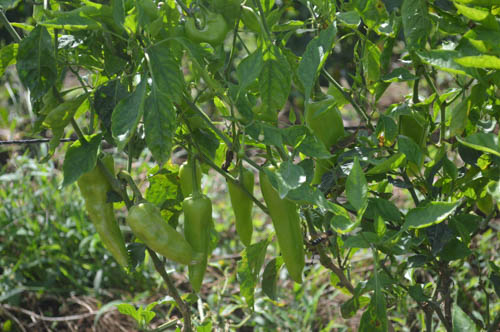ChiliPepper: (261, 168, 307, 280), (85, 158, 126, 268), (129, 203, 198, 263), (177, 195, 212, 293), (305, 95, 343, 182), (228, 169, 254, 251), (183, 14, 226, 41), (393, 100, 422, 134), (176, 164, 202, 197)
